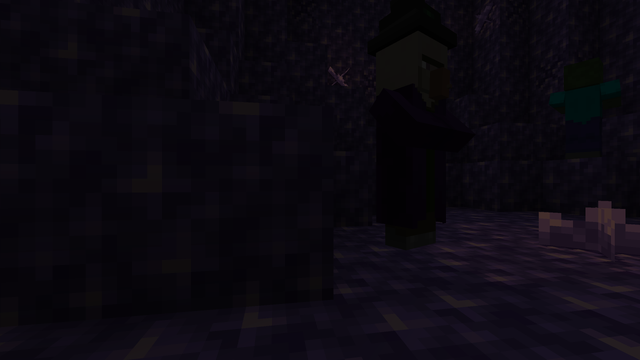sorcieres: (370, 20, 460, 253)
zombies: (555, 59, 612, 139)
